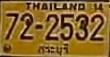2: (45, 13, 58, 40), (90, 14, 103, 40), (20, 12, 32, 38)
3: (74, 13, 88, 40)
5: (59, 13, 73, 40)
7: (5, 12, 18, 39)
SRI: (36, 41, 71, 56)
